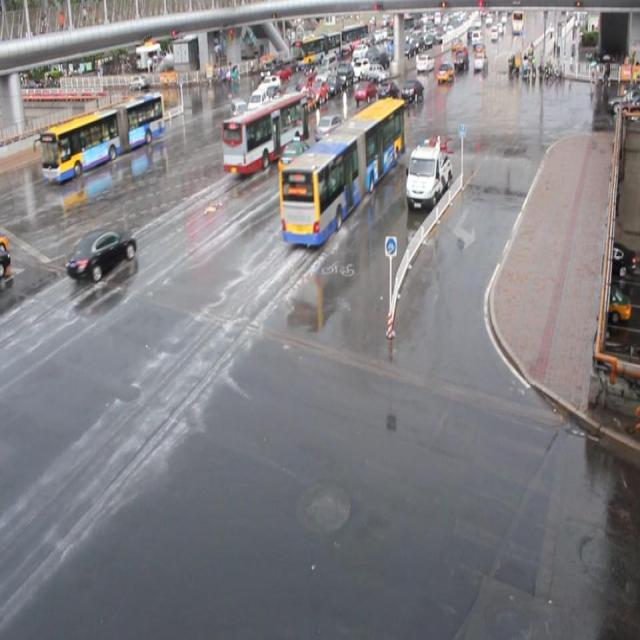bus: (403, 142, 450, 209)
car: (66, 228, 138, 282), (278, 136, 315, 172), (314, 114, 344, 141), (292, 90, 314, 116), (304, 80, 325, 106), (354, 80, 377, 103), (266, 96, 288, 119), (400, 79, 423, 101), (260, 82, 282, 105), (377, 80, 399, 103), (258, 74, 281, 95), (279, 82, 299, 106), (291, 75, 311, 97)
truck: (244, 88, 267, 120), (228, 97, 248, 133)
van: (278, 97, 406, 247), (40, 90, 165, 180), (222, 90, 309, 174)
